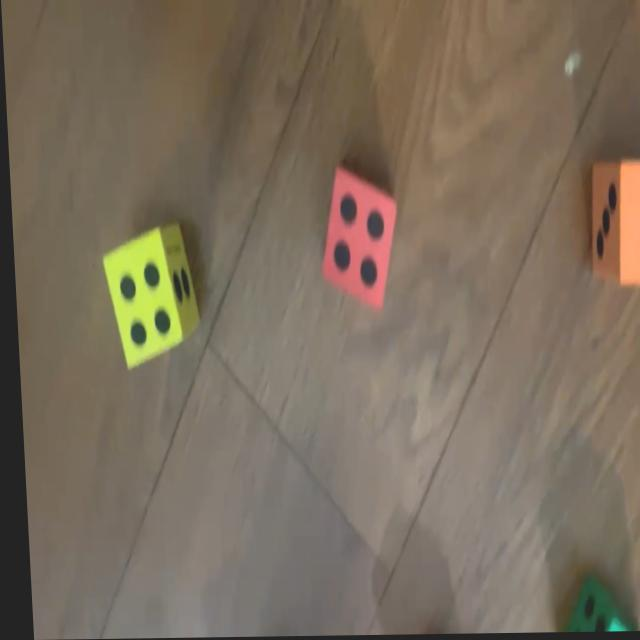cube: (315, 169, 397, 314), (551, 585, 627, 634)
